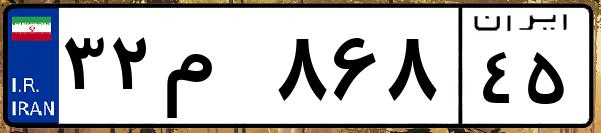2: (110, 28, 158, 98)
3: (57, 26, 110, 100)
4: (475, 38, 525, 113)
5: (525, 38, 570, 115)
6: (330, 28, 385, 110)
8: (270, 28, 330, 110), (385, 28, 445, 110)
م: (158, 20, 270, 120)
